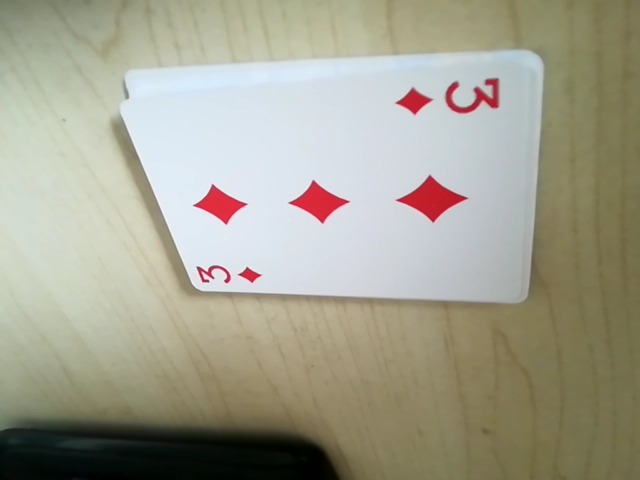fk 3: (392, 64, 507, 125), (191, 258, 263, 294)
